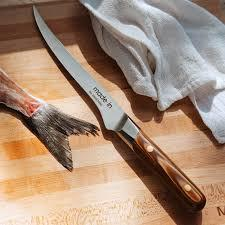Knife: (31, 4, 206, 212)
